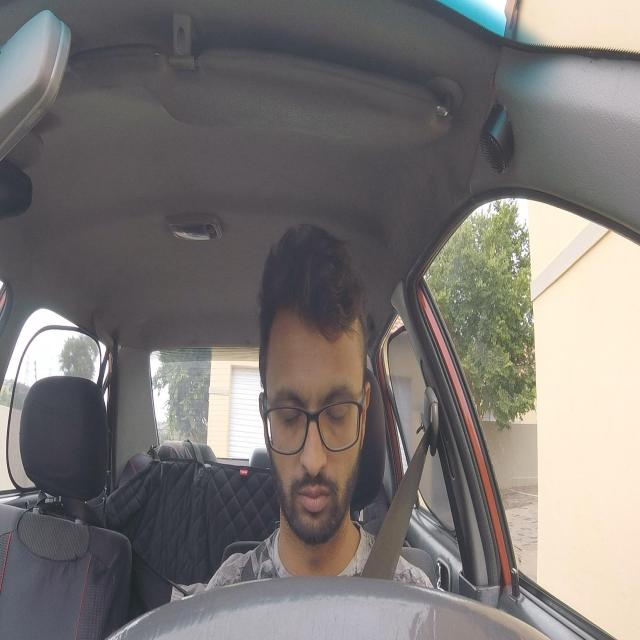close: (323, 380, 353, 430), (271, 385, 305, 429)
